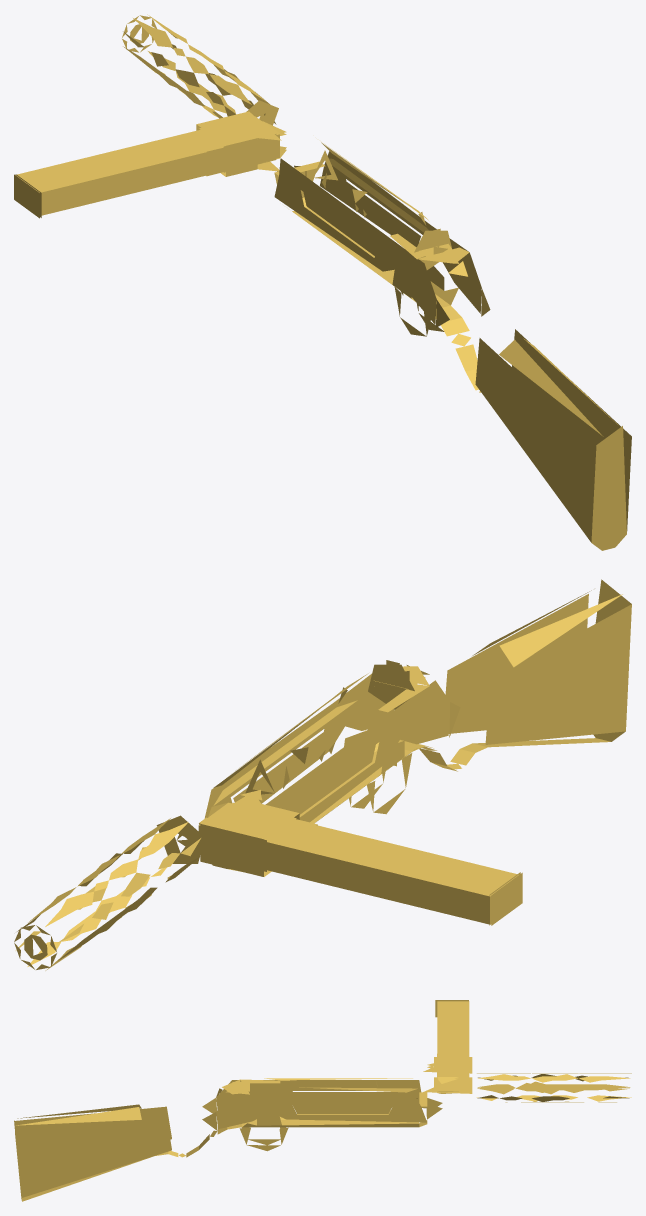
Rendered from charm_mst_subfusil_15.glb.
The picture shows the model from 3 angles, top to bottom: view 1: azimuth 30°, elevation 25°; view 2: azimuth 150°, elevation 25°; view 3: azimuth 270°, elevation 25°; orthographic projection. The views are drawn at different scales.
Parts seen in each view (by area): view 1: p0_paint; view 2: p0_paint; view 3: p0_paint.
Boxes of the visible parts, left/top/right/bottom form: p0_paint: left=14, top=14, right=631, bottom=550; p0_paint: left=14, top=579, right=631, bottom=970; p0_paint: left=14, top=1000, right=631, bottom=1201.
Size of the model in its own units: 0.27 by 0.1819 by 0.8094.
